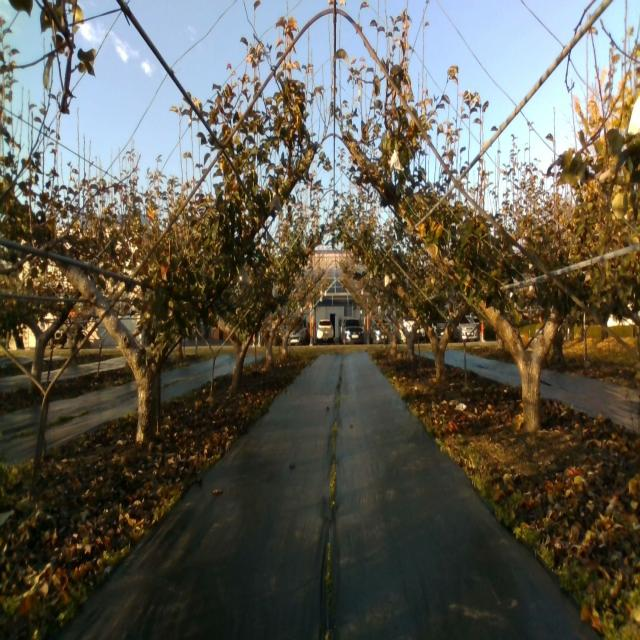pearbags: (389, 150, 403, 172)
